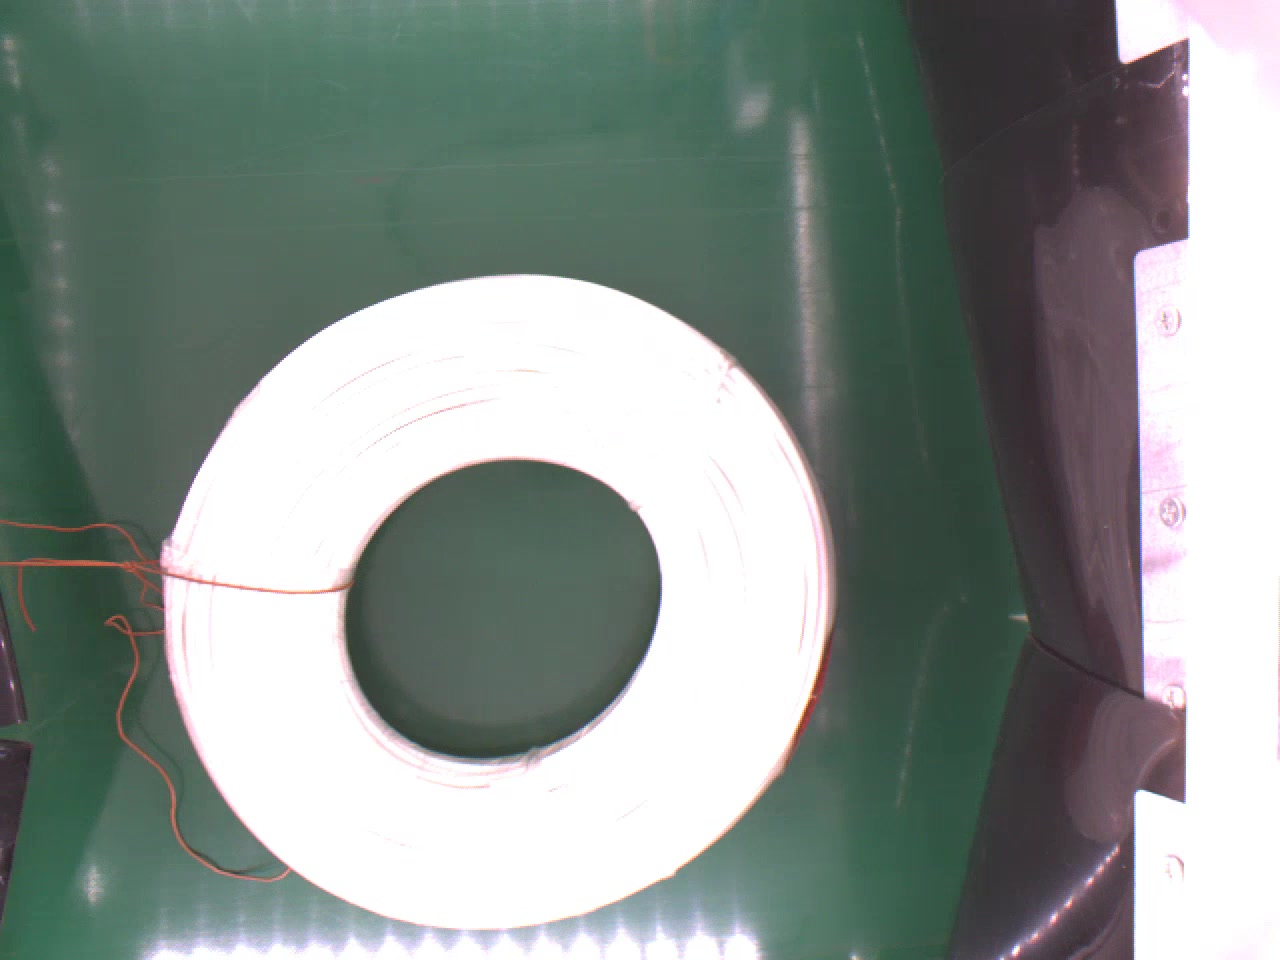white: (158, 267, 839, 931)
